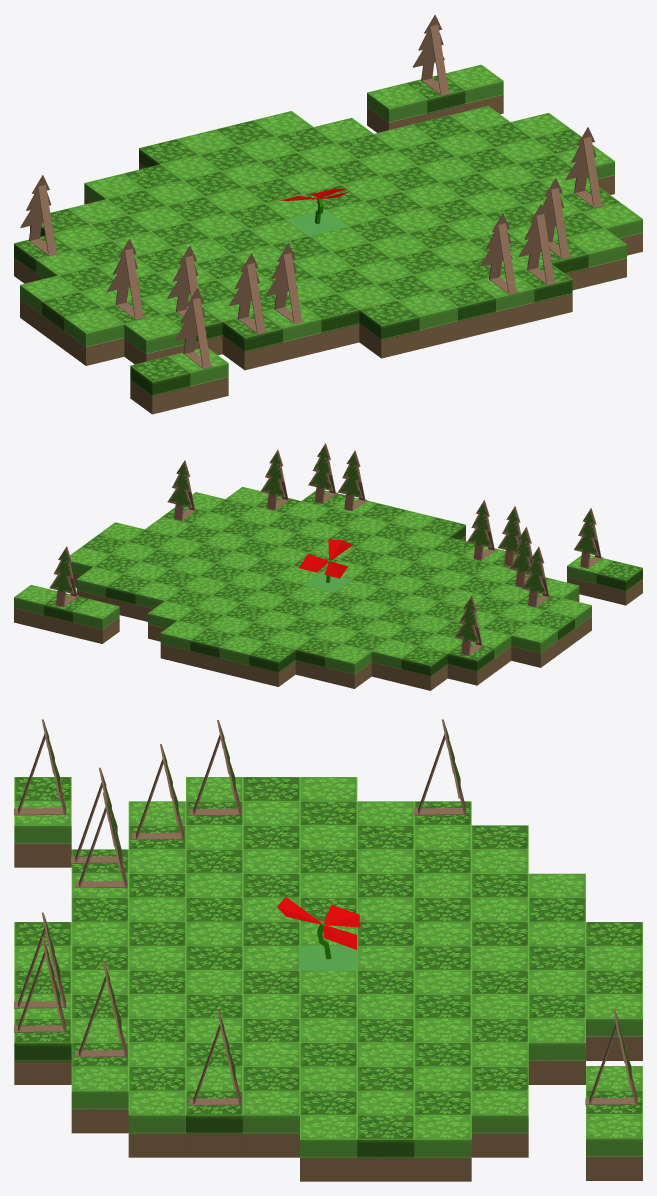
File: Level 1.fbx
The picture shows the model from 3 angles, top to bottom: view 1: azimuth 30°, elevation 25°; view 2: azimuth 150°, elevation 25°; view 3: azimuth 270°, elevation 25°; orthographic projection. The views are drawn at different scales.
Parts seen in each view (by area): view 1: Cube.001, Tree.004, Tree.006, Tree.007, Tree.010, Tree.008, Tree.011, Tree.001, Tree.005, Tree.009, Buff Flower, Tree.002 (+1 smaller); view 2: Cube.001, Buff Flower, Tree.010, Tree.007, Tree.011, Tree.002, Tree.005, Tree.008, Tree.009, Tree.001, Tree.004, Tree.003 (+1 smaller); view 3: Cube.001, Buff Flower, Tree.007, Tree.001, Tree.005, Tree.009, Tree.010, Tree.003, Tree.011, Tree.008, Tree.002, Tree.004 (+1 smaller).
Boxes of the visible parts, left/top/right/bottom form: Cube.001: left=14, top=64, right=642, bottom=414; Tree.004: left=480, top=213, right=518, bottom=294; Tree.006: left=229, top=253, right=267, bottom=334; Tree.007: left=518, top=204, right=557, bottom=285; Tree.010: left=174, top=288, right=213, bottom=368; Tree.008: left=266, top=243, right=304, bottom=323; Tree.011: left=412, top=15, right=451, bottom=95; Tree.001: left=565, top=127, right=603, bottom=207; Tree.005: left=107, top=239, right=145, bottom=319; Tree.009: left=20, top=175, right=58, bottom=255; Buff Flower: left=279, top=188, right=349, bottom=235; Tree.002: left=542, top=178, right=571, bottom=258; Cube.001: left=14, top=486, right=642, bottom=690; Buff Flower: left=298, top=539, right=352, bottom=591; Tree.010: left=574, top=508, right=603, bottom=568; Tree.007: left=308, top=443, right=337, bottom=504; Tree.011: left=49, top=546, right=78, bottom=607; Tree.002: left=260, top=450, right=290, bottom=510; Tree.005: left=521, top=546, right=550, bottom=607; Tree.008: left=467, top=500, right=496, bottom=560; Tree.009: left=454, top=595, right=483, bottom=656; Tree.001: left=167, top=460, right=196, bottom=520; Tree.004: left=338, top=450, right=367, bottom=511; Tree.003: left=509, top=527, right=532, bottom=587; Cube.001: left=14, top=777, right=642, bottom=1181; Buff Flower: left=277, top=897, right=359, bottom=970; Tree.007: left=14, top=936, right=66, bottom=1032; Tree.001: left=189, top=1009, right=241, bottom=1105; Tree.005: left=189, top=720, right=241, bottom=815; Tree.009: left=414, top=719, right=466, bottom=815; Tree.010: left=14, top=719, right=66, bottom=815; Tree.003: left=132, top=744, right=184, bottom=839; Tree.011: left=585, top=1009, right=637, bottom=1105; Tree.008: left=75, top=792, right=127, bottom=888; Tree.002: left=75, top=961, right=127, bottom=1057; Tree.004: left=14, top=912, right=66, bottom=1008.
Size of the model in its own units: 3000 by 524 by 2202.
7 materials, 3 textured.
